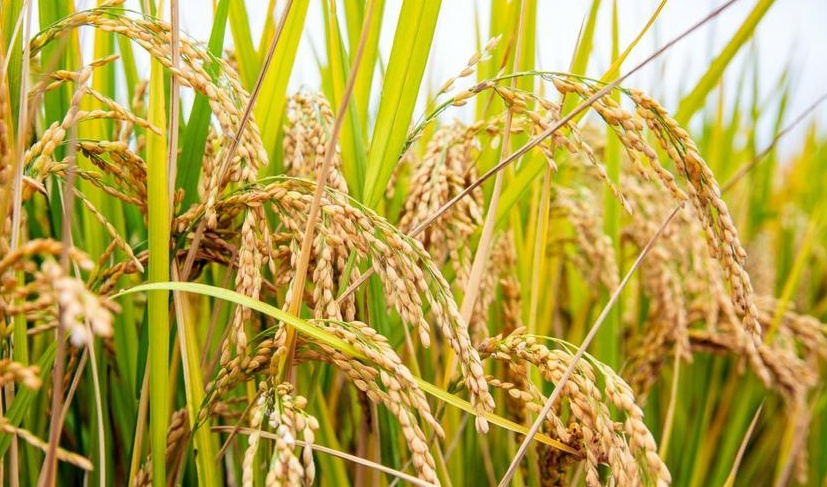rice: (491, 63, 776, 340), (161, 168, 439, 332), (203, 314, 442, 484), (32, 10, 277, 169), (449, 330, 670, 487)
